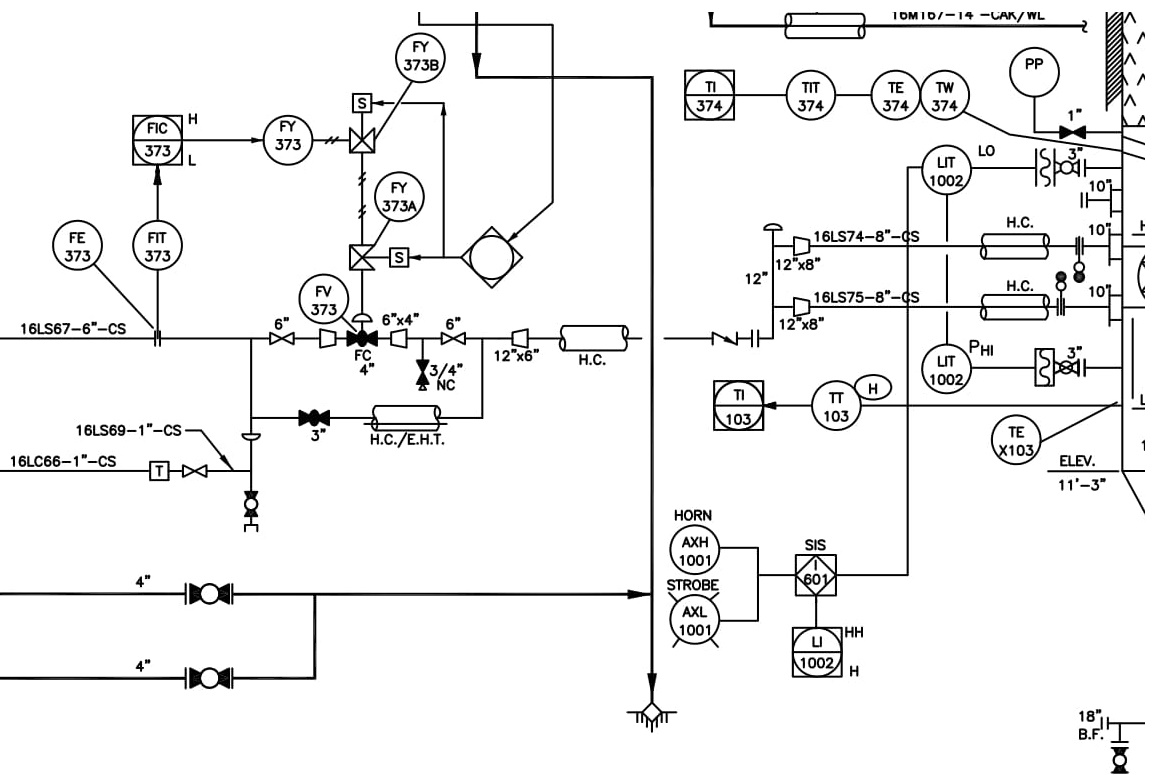Inline Instrument: (49, 216, 103, 274), (130, 216, 184, 274), (298, 269, 352, 327), (260, 111, 314, 169), (373, 165, 427, 223), (809, 376, 863, 434), (785, 64, 839, 122), (870, 66, 924, 124), (990, 409, 1044, 467), (921, 339, 975, 397)
Panel Instrument: (129, 110, 185, 169), (711, 375, 767, 434), (790, 622, 846, 681), (680, 64, 736, 123)
